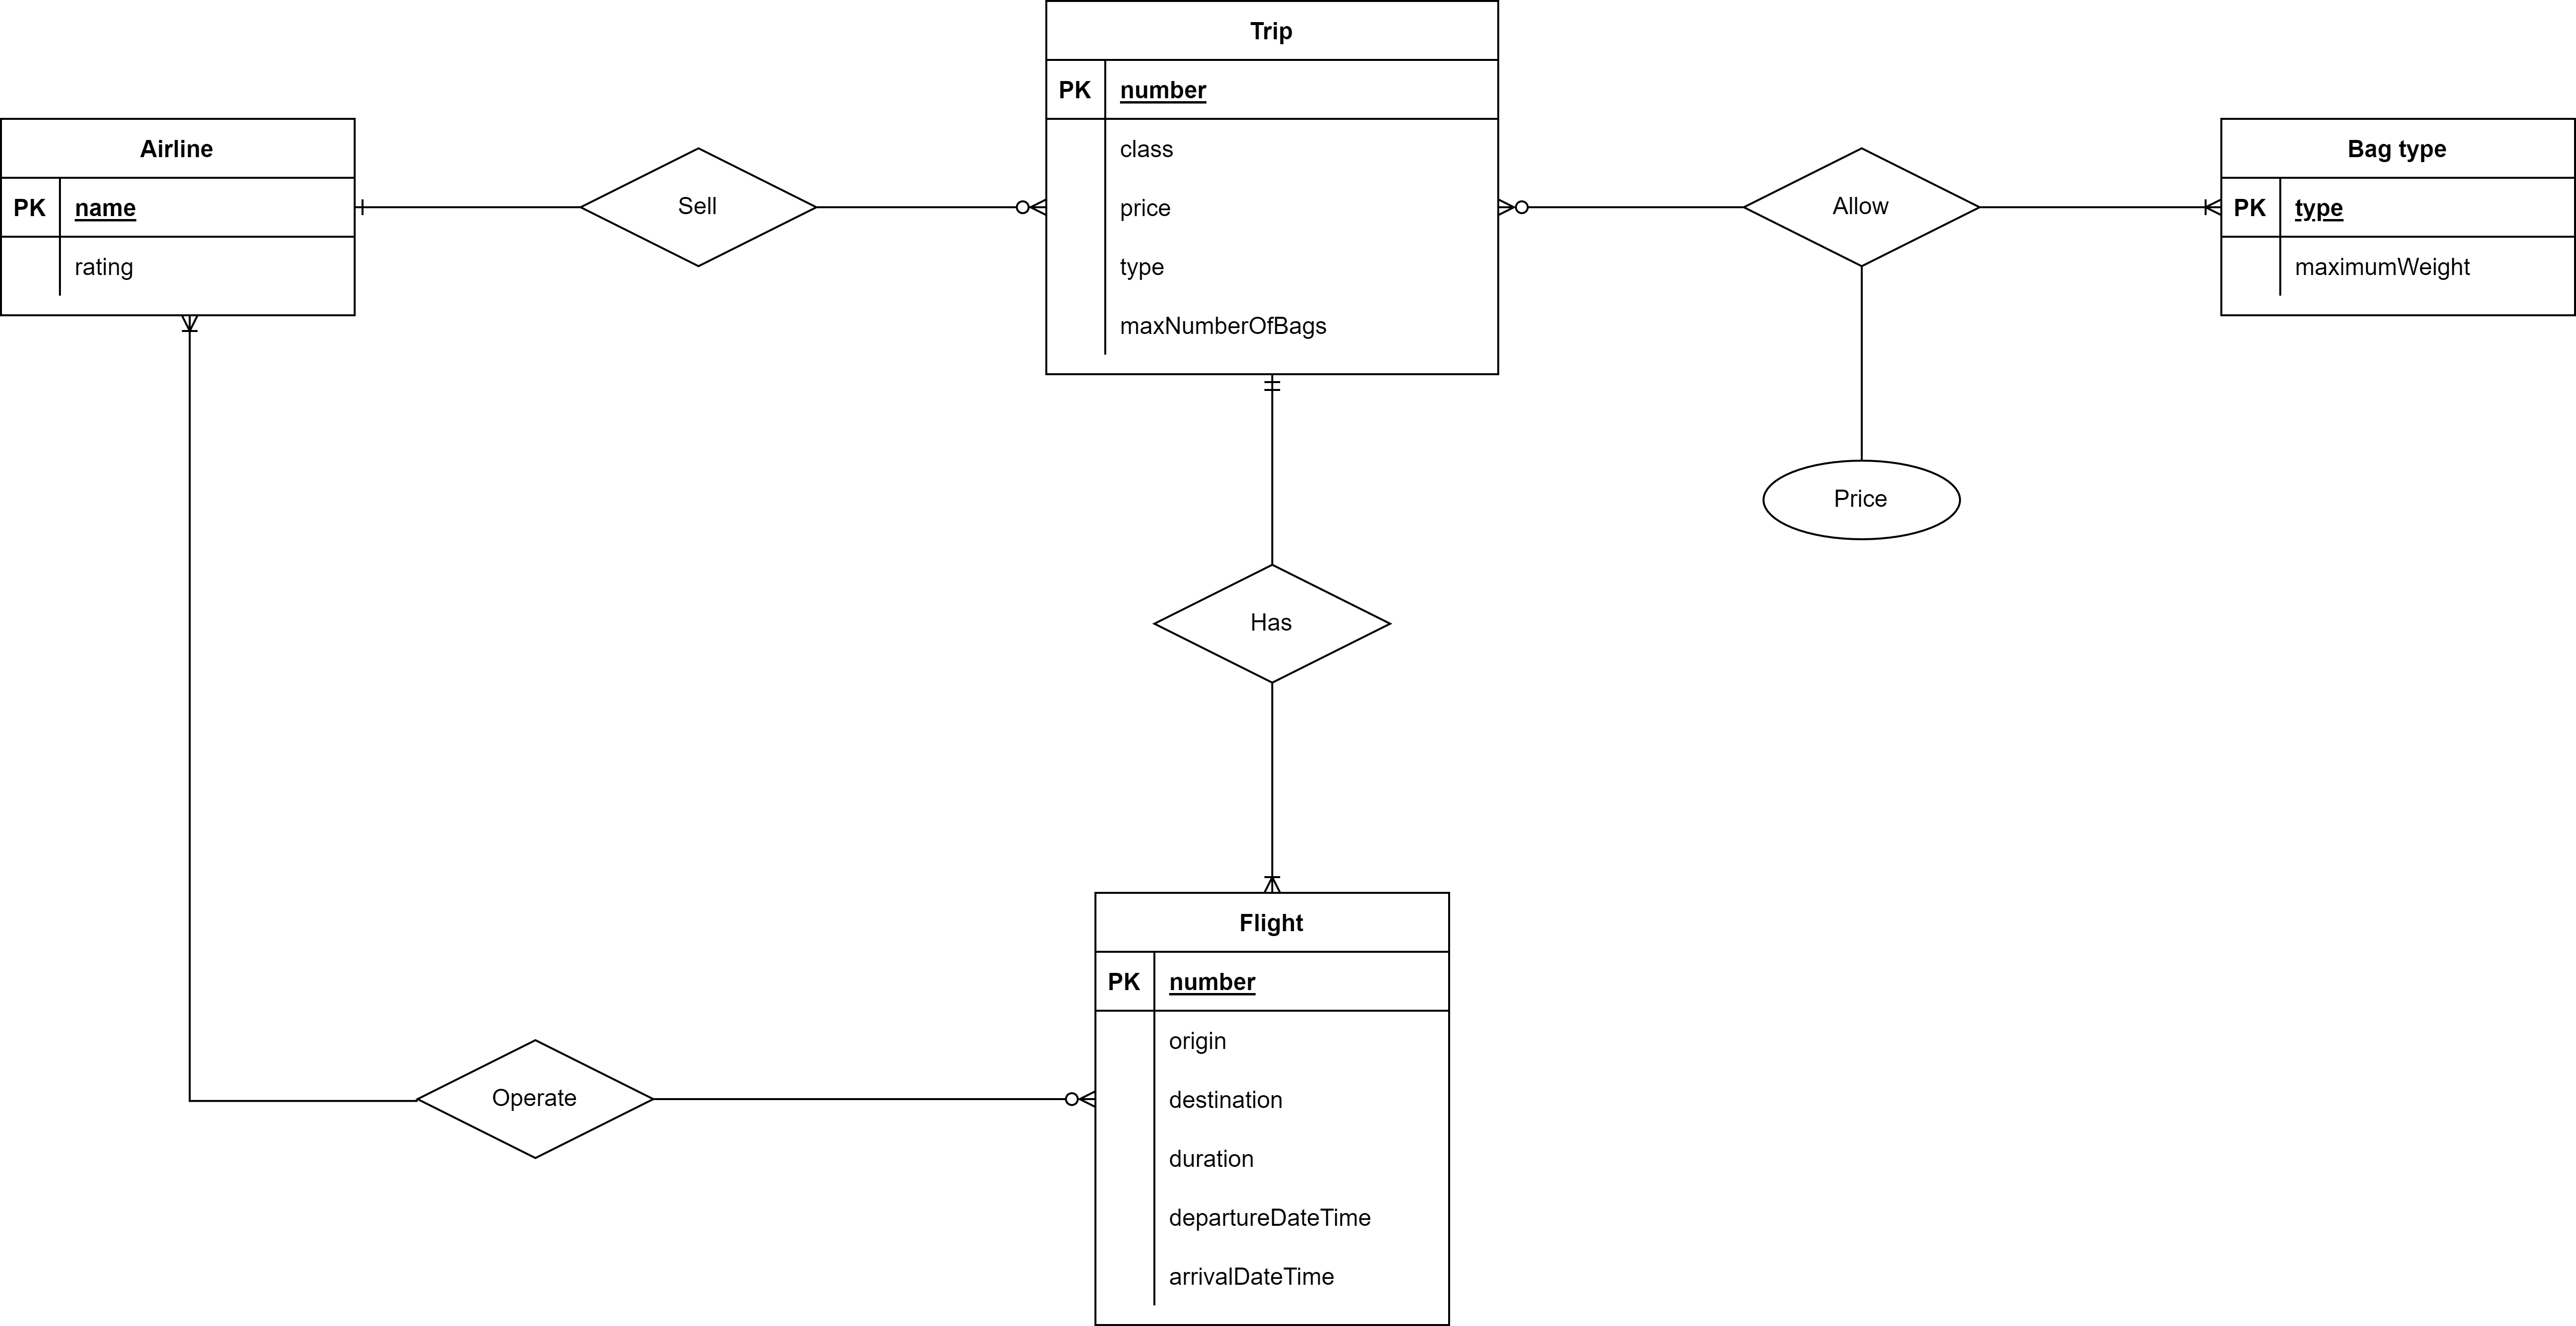entity: (1044, 2, 1502, 377), (1098, 891, 1446, 1326), (2222, 120, 2576, 318), (2, 120, 355, 315)
many: (1008, 1091, 1098, 1115), (1260, 822, 1284, 893), (179, 315, 201, 387), (981, 200, 1047, 223), (1499, 198, 1558, 218), (2165, 198, 2221, 216)
one: (355, 198, 413, 220), (1262, 374, 1284, 428)
rel: (414, 1040, 651, 1160), (584, 145, 815, 267), (1154, 565, 1392, 682), (1746, 151, 1976, 271)
rel_attr: (1761, 460, 1964, 540)
